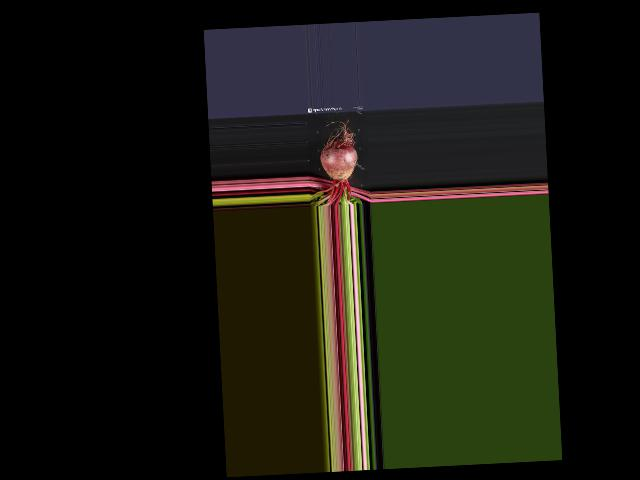beet: (305, 116, 360, 206)
